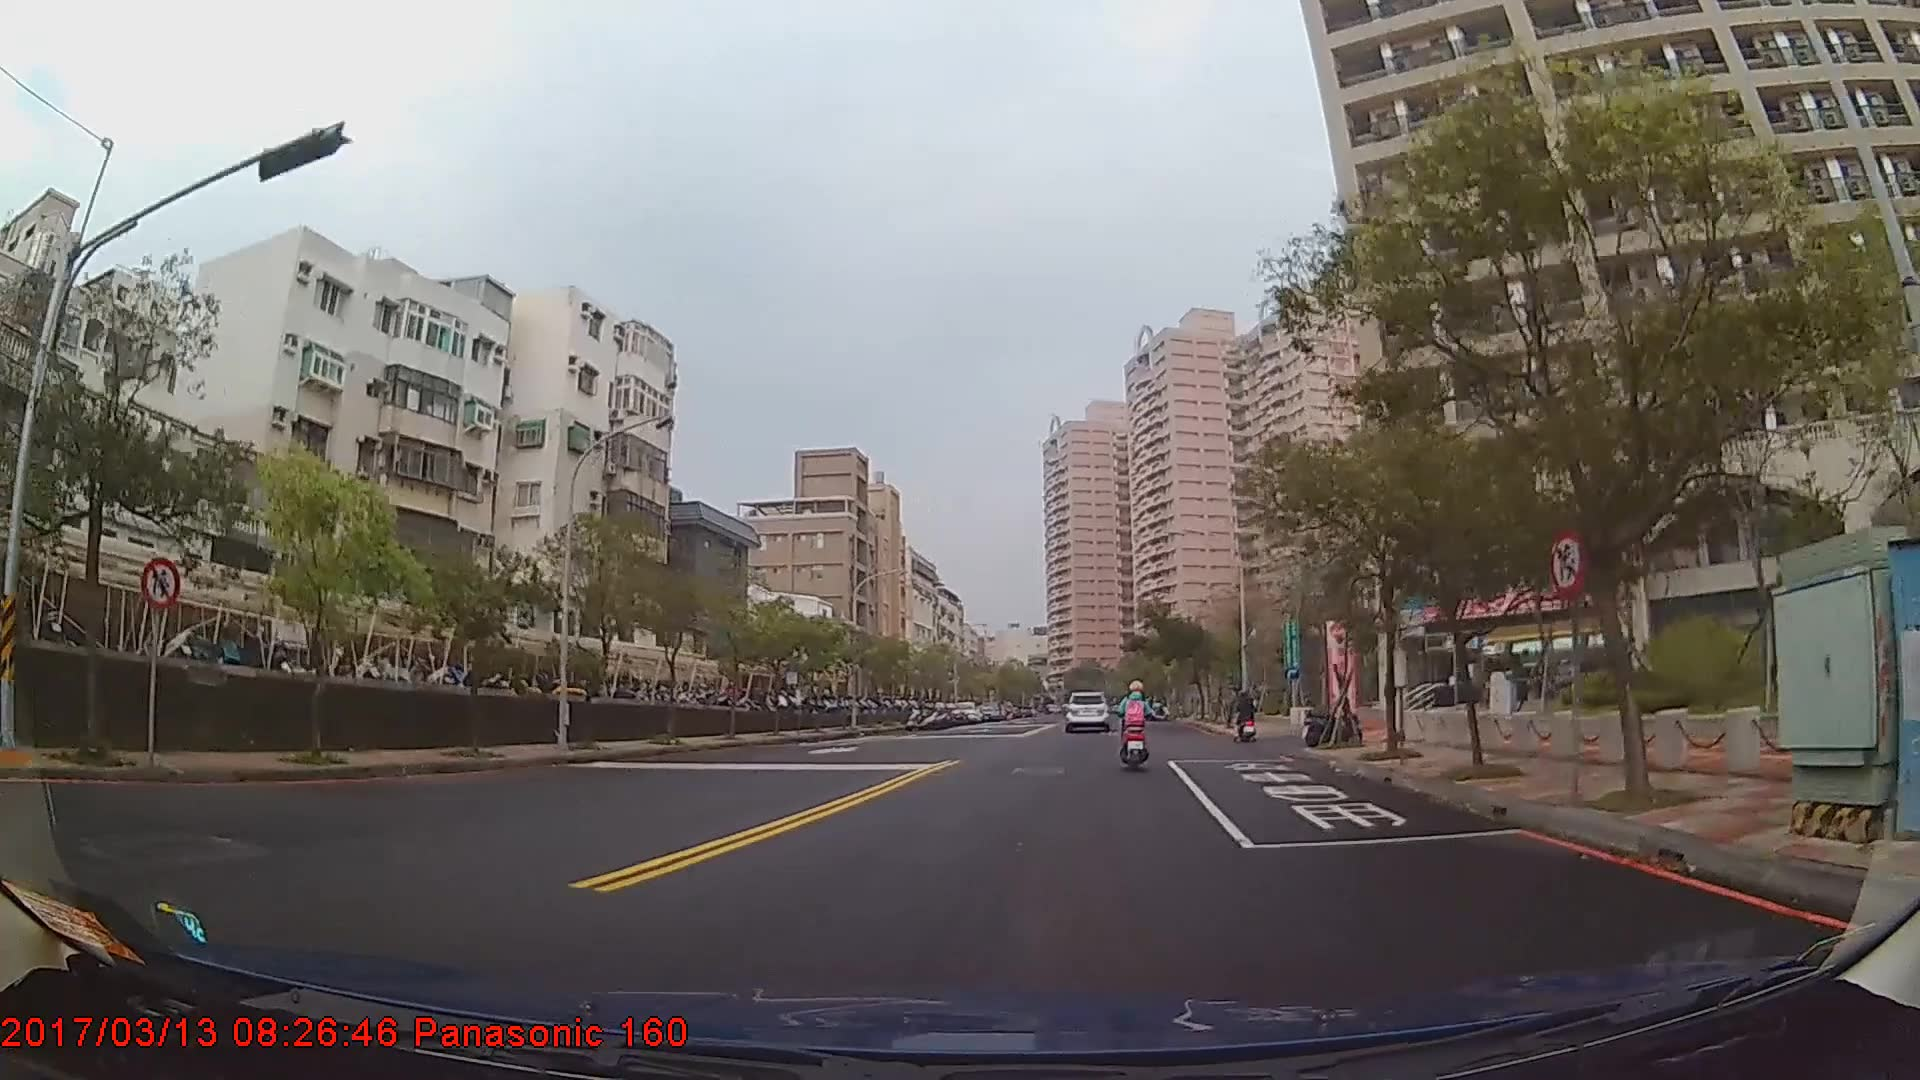rider: (1114, 677, 1161, 763), (1236, 689, 1256, 744)
vehicle: (1062, 688, 1106, 731)
